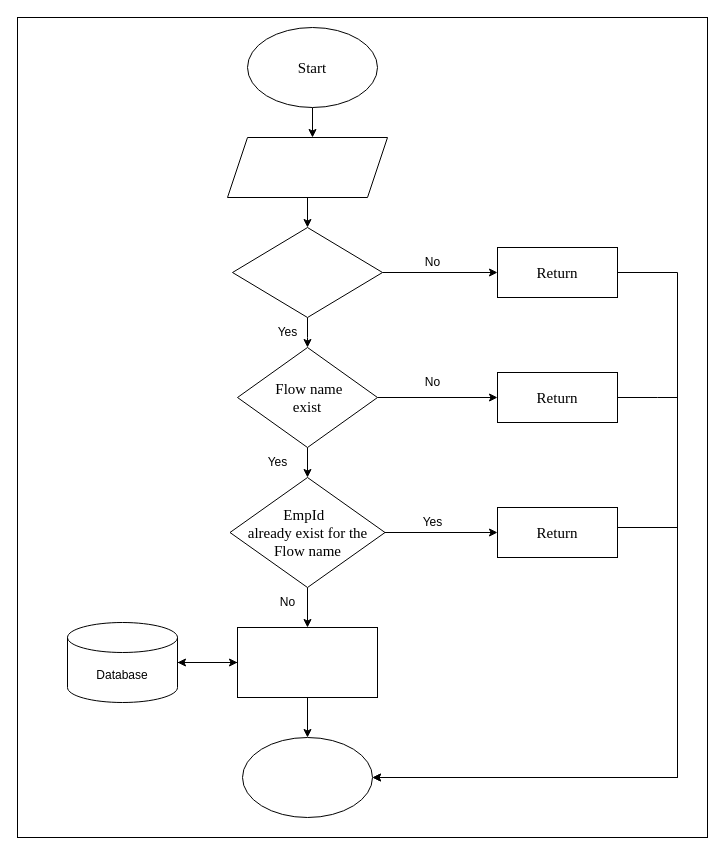
The diagram is 725 pixels wide and 855 high, and some of its shapes have lost their labels. Each missing label, with the box of its shape:
End: (242, 736, 372, 818)
Input request Body: (226, 136, 388, 198)
Update data: (236, 626, 378, 698)
Valid request body: (232, 226, 382, 318)
